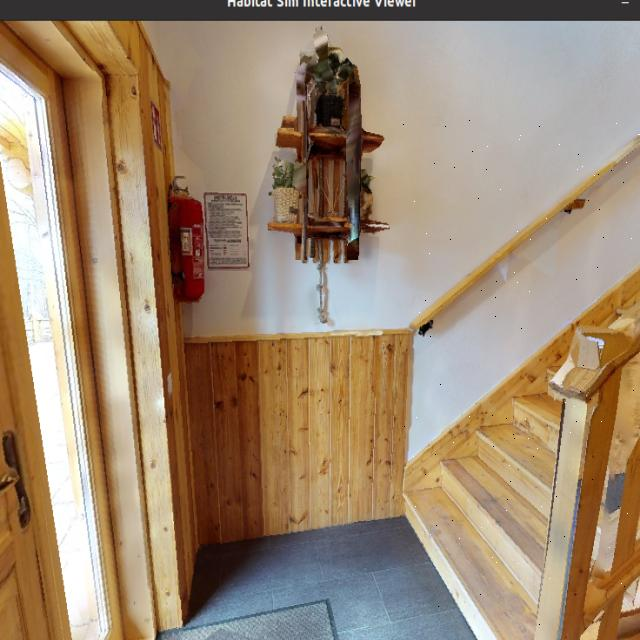stairs: (401, 119, 640, 640)
